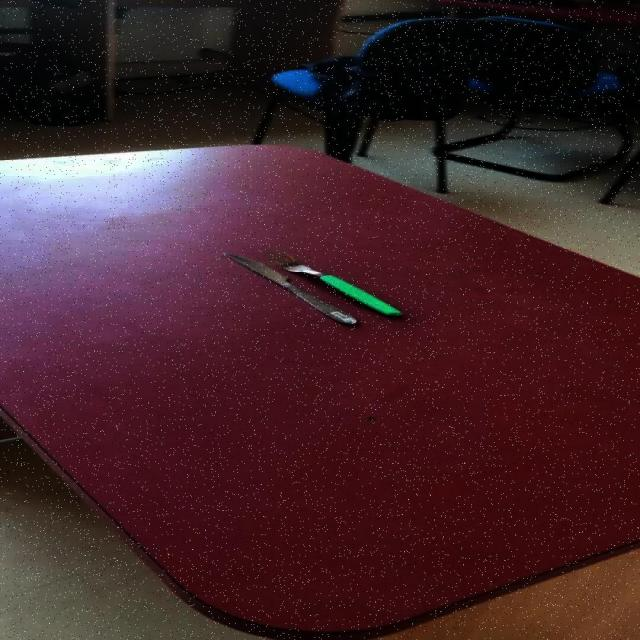Fork: (275, 250, 405, 317)
Knife: (222, 248, 406, 326), (223, 250, 360, 325), (275, 250, 405, 318)
